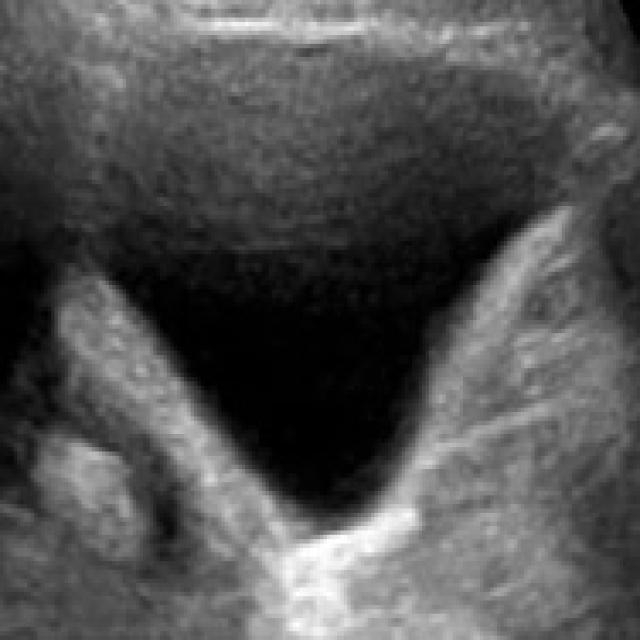bladder: (51, 1, 616, 602)
